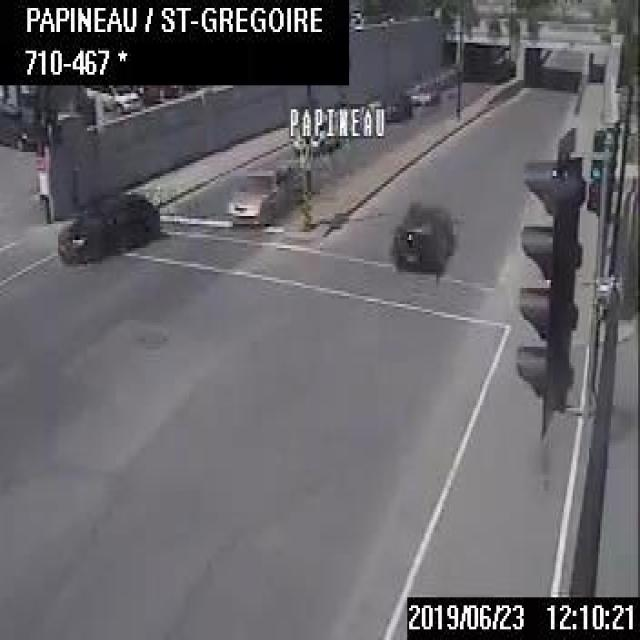vehicle: (55, 184, 158, 259), (222, 159, 300, 227), (391, 203, 456, 269), (0, 98, 47, 149), (84, 83, 142, 113), (364, 90, 410, 124), (290, 127, 340, 156), (408, 80, 438, 104)
